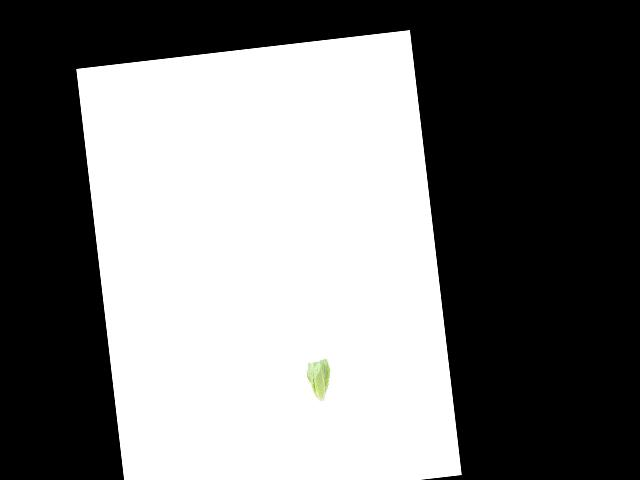lettuce: (301, 356, 336, 404)
